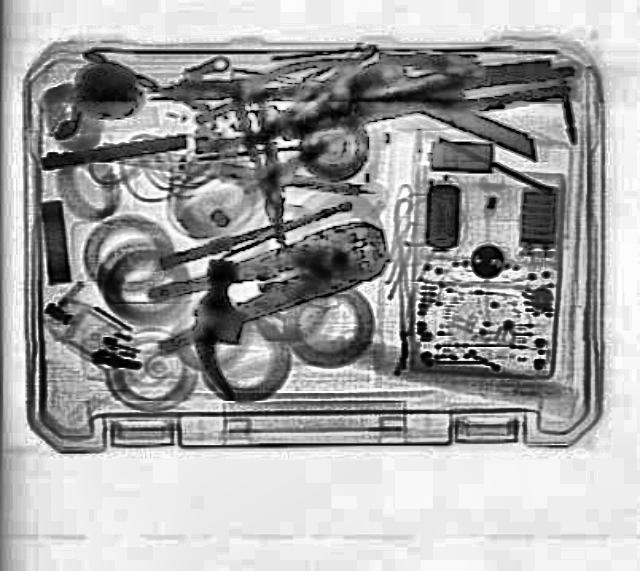Pliers: (132, 212, 404, 352), (186, 56, 382, 154), (227, 80, 300, 240)
